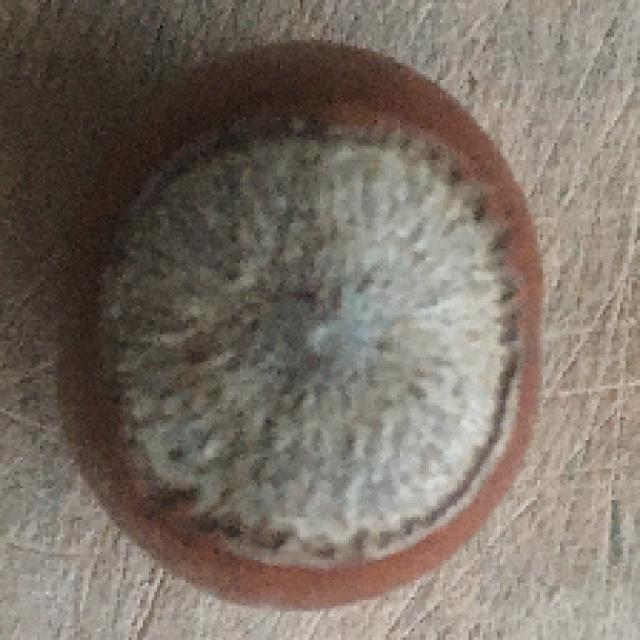qualityHazelnut: (49, 38, 544, 608)
